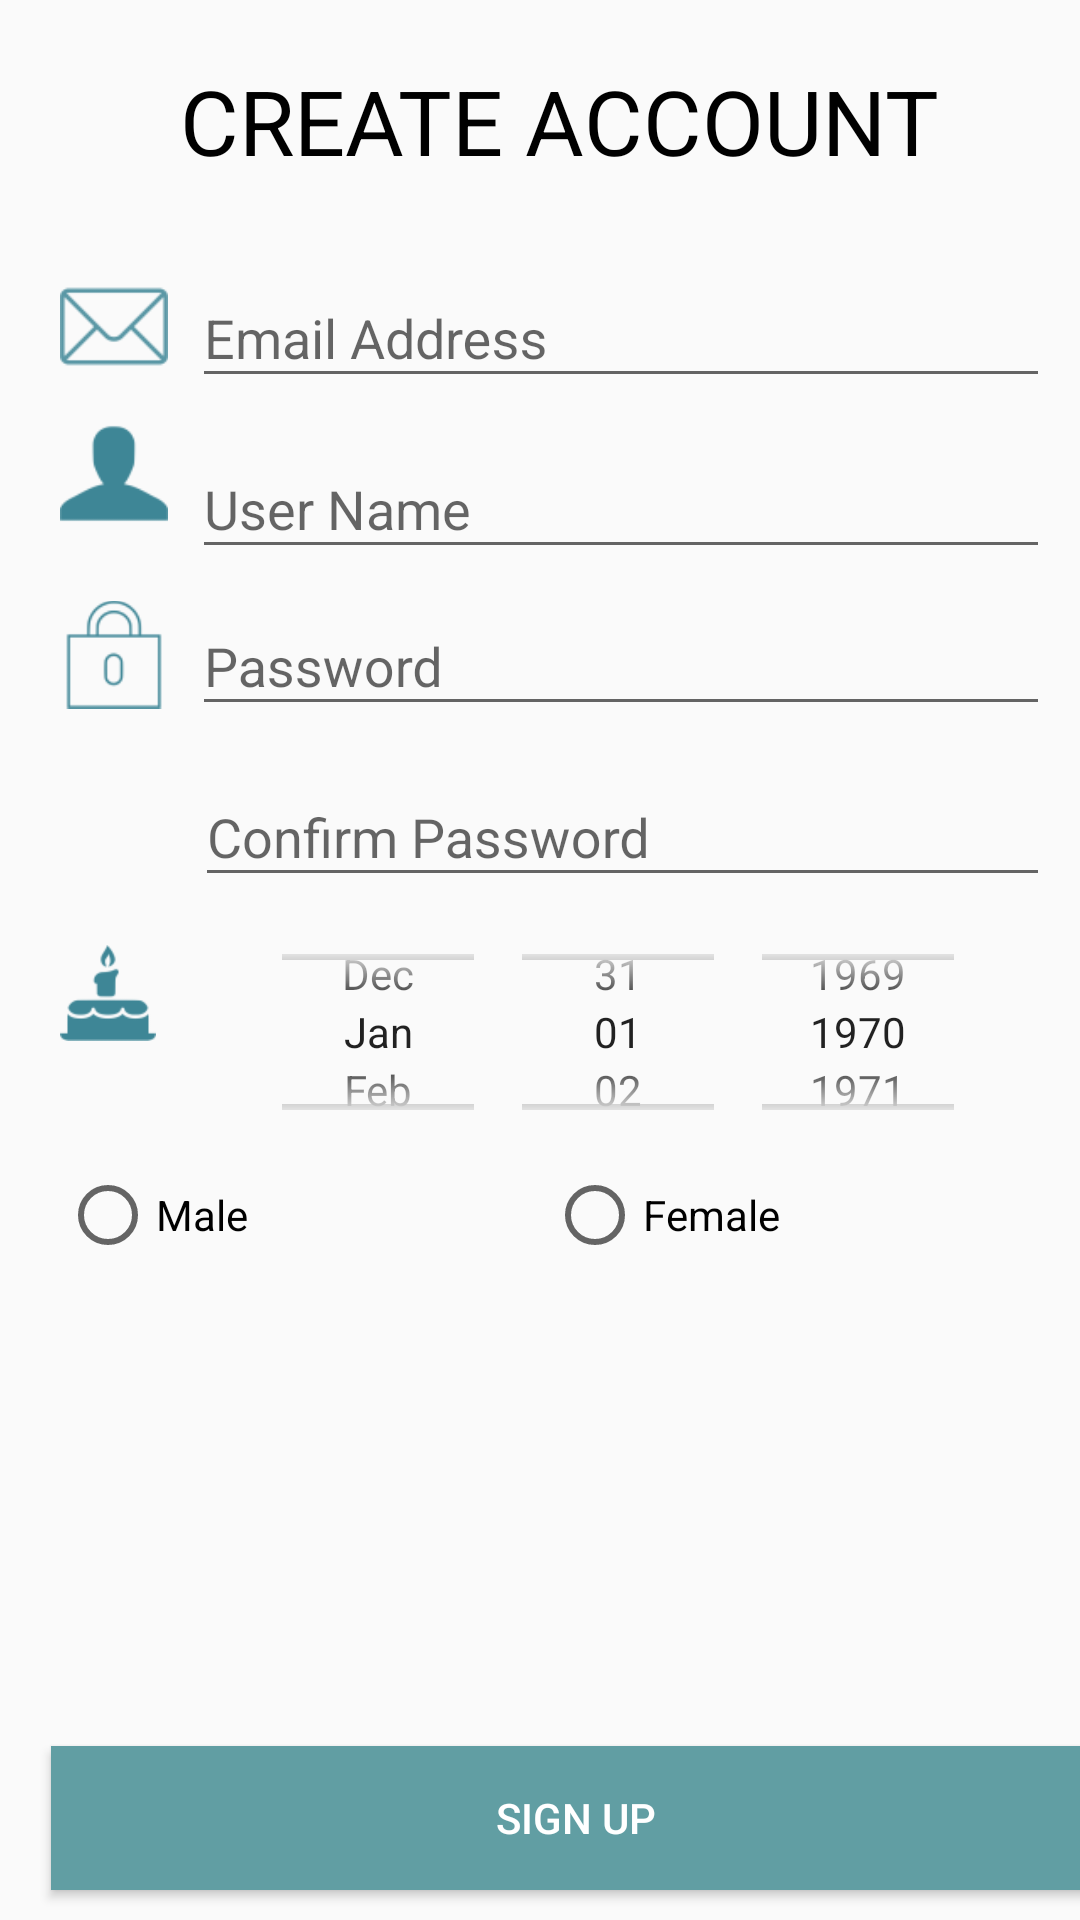

Icon click points for this 1080 × 1920 phone screenshot, format point (x, y):
birthday: point (108, 993)
lock: point (114, 655)
usericon: point (114, 473)
